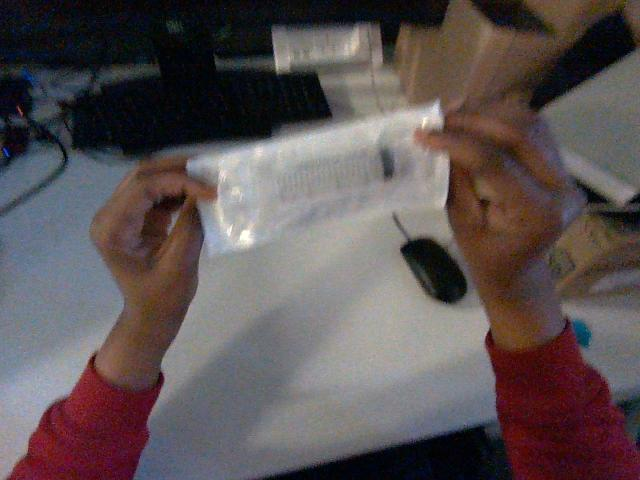syringe: (187, 103, 448, 254)
